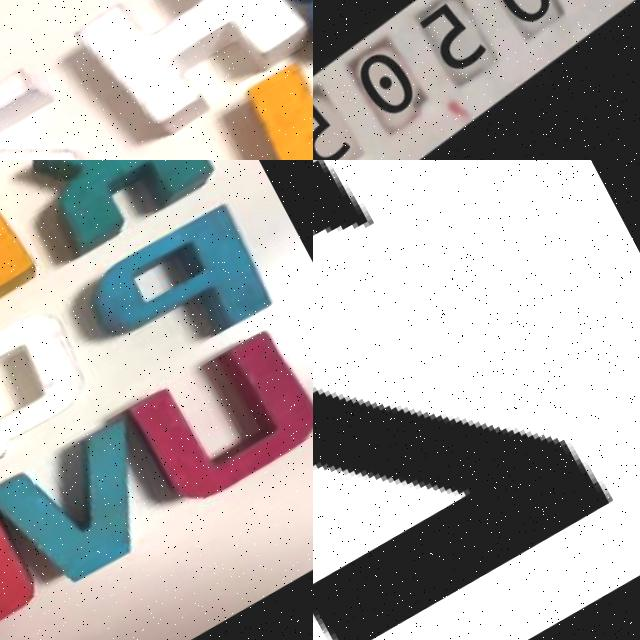0: (341, 28, 437, 140), (476, 0, 573, 52)
2: (313, 160, 620, 640)
5: (408, 0, 504, 94), (313, 77, 369, 160)
H: (68, 0, 310, 157)
K: (32, 160, 217, 259)
L: (132, 61, 313, 160)
P: (83, 205, 279, 394)
Q: (0, 304, 108, 495)
U: (118, 331, 313, 528)
V: (0, 418, 179, 612)
Z: (0, 54, 108, 160)
